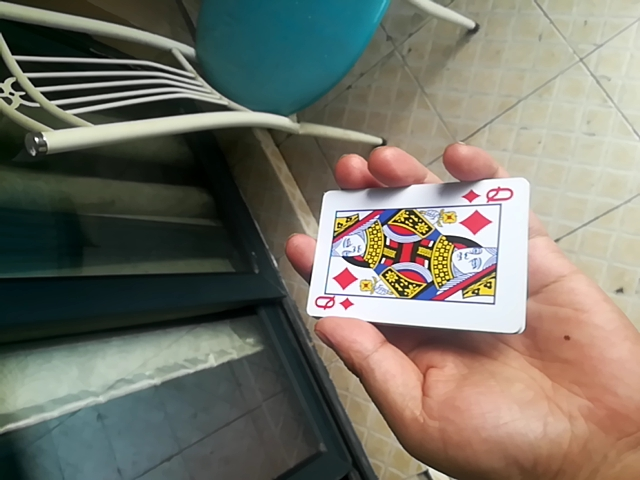fk q: (302, 174, 532, 333)
